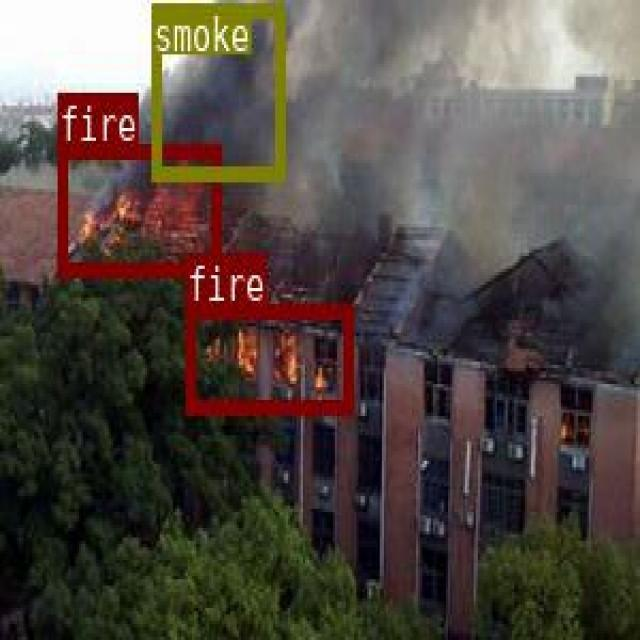fire: (56, 142, 219, 275), (185, 303, 350, 410)
smoke: (150, 1, 283, 178)
